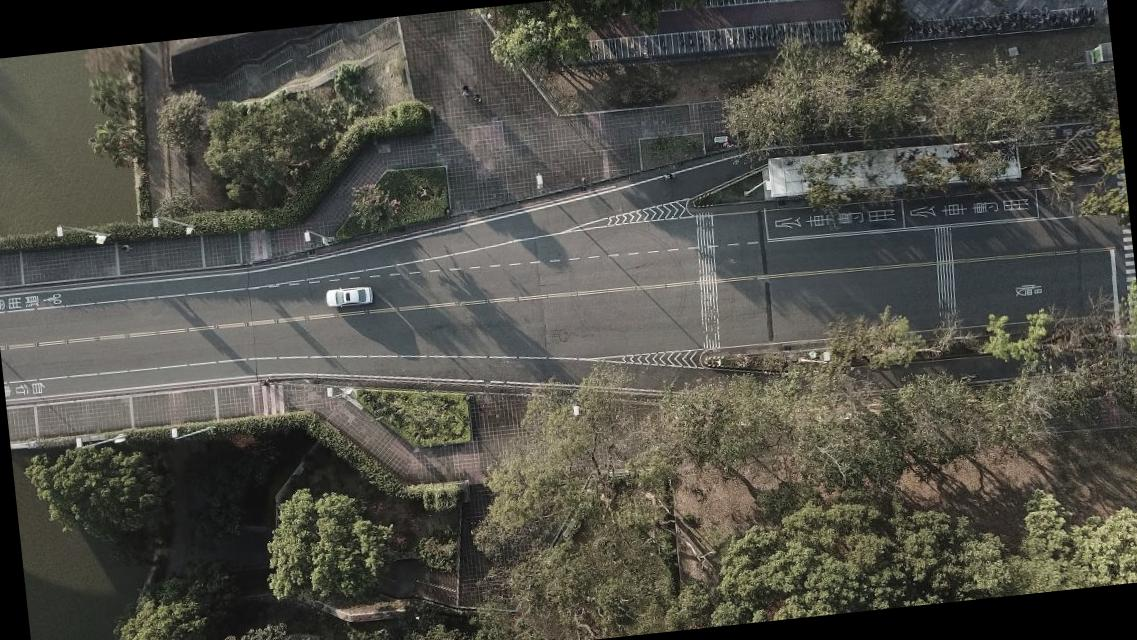vehicle: (324, 282, 374, 310)
